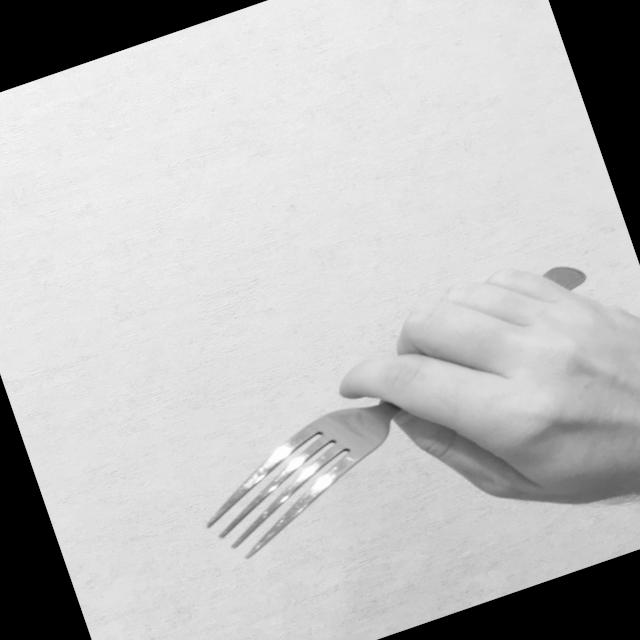fork: (162, 254, 639, 568)
